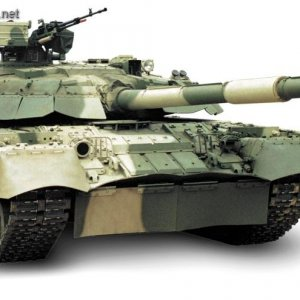Battle Tank: (1, 10, 299, 264)
